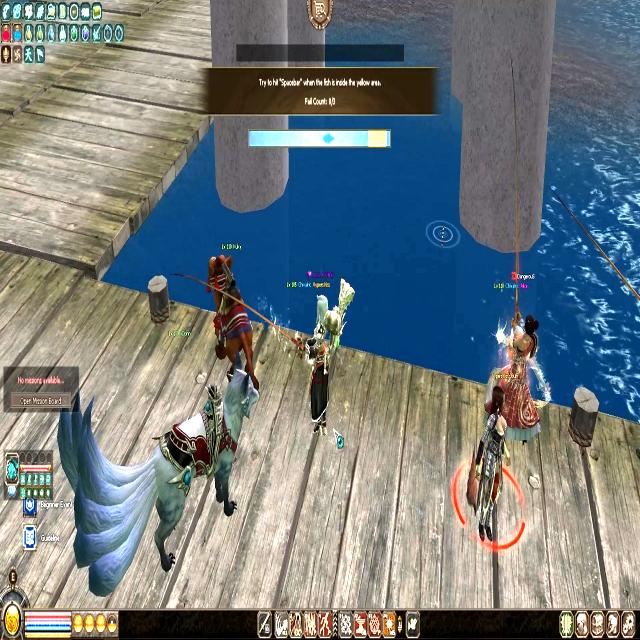fishes: (322, 132, 336, 144)
